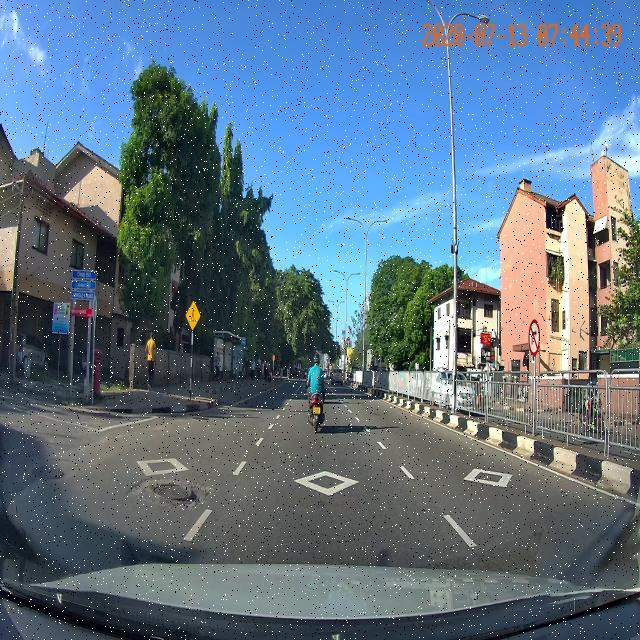diamond: (204, 456, 441, 502)
